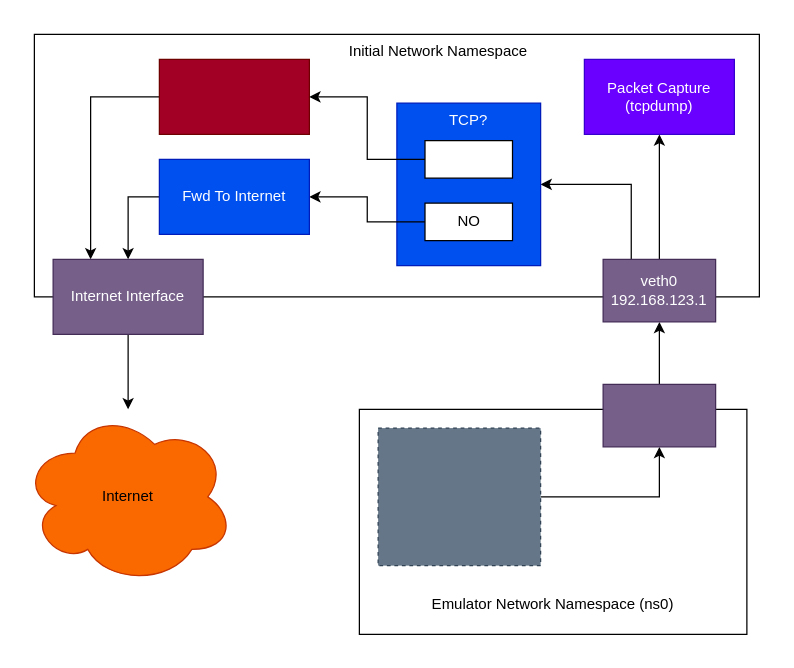
Image size: 794x668. Some labels were removed from this diagram. Each missing label, with the centre of its shape:
curl: the point at 459,496
mitmproxy: the point at 233,96
veth1 192.168.123.2 default gateway: the point at 659,415
YES: the point at 468,158
